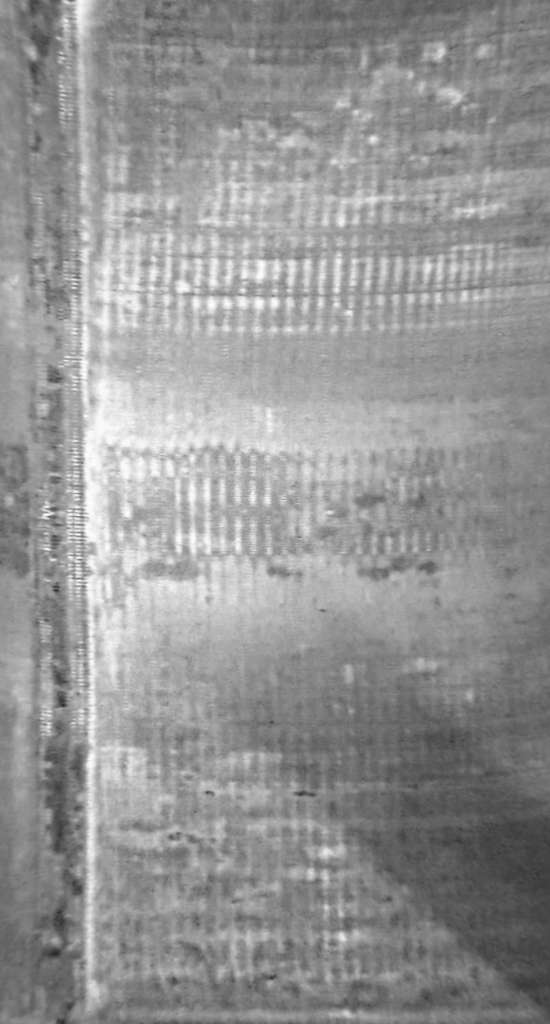splice: (11, 1, 101, 1024)
